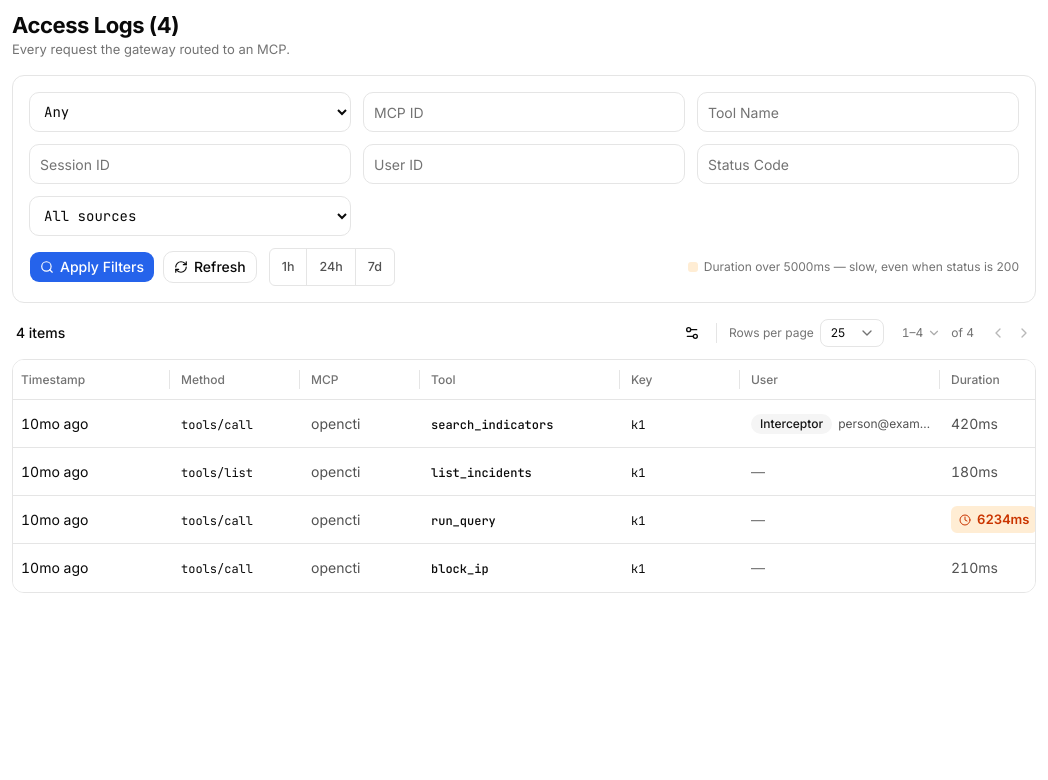
Test: AccessLogsPage › applying a filter commits it to the URL and refetches
The width and height of the screenshot is (1048, 780).
Expected: the heading "Access Logs (4)" is shown, [12,12,179,38]
Select "tools/call" in the dropdown named "Method" at [190, 112], box [29,92,351,132]
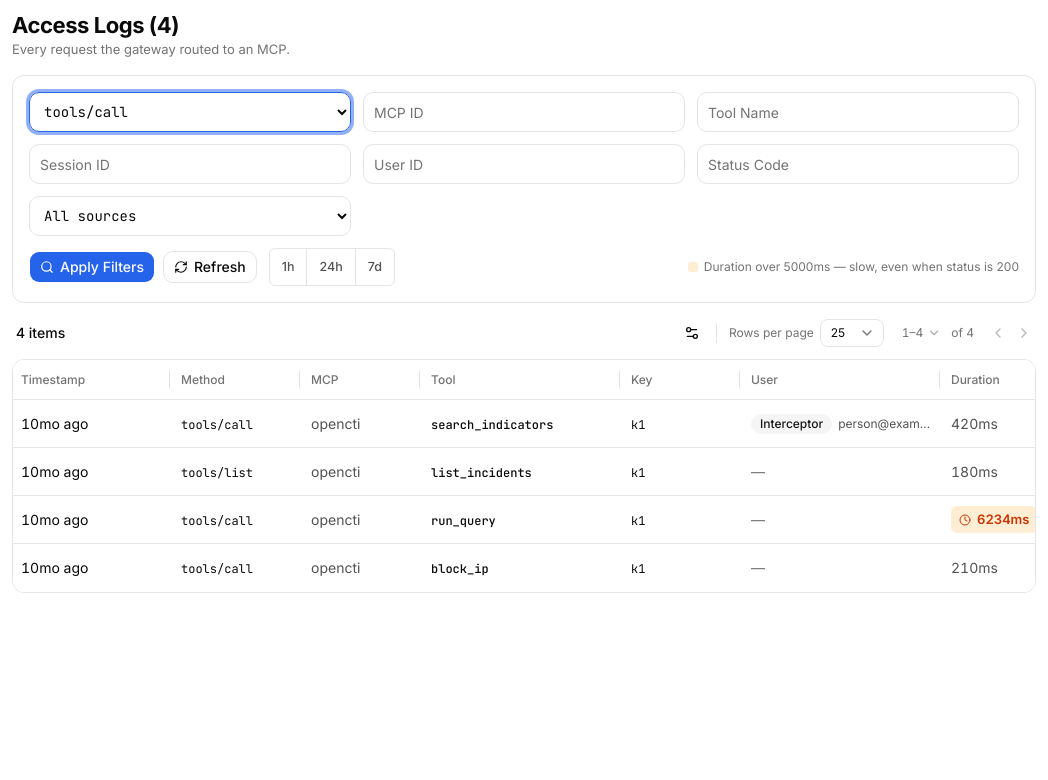
Click the button "Apply Filters" at [92, 267], box [29,251,155,283]
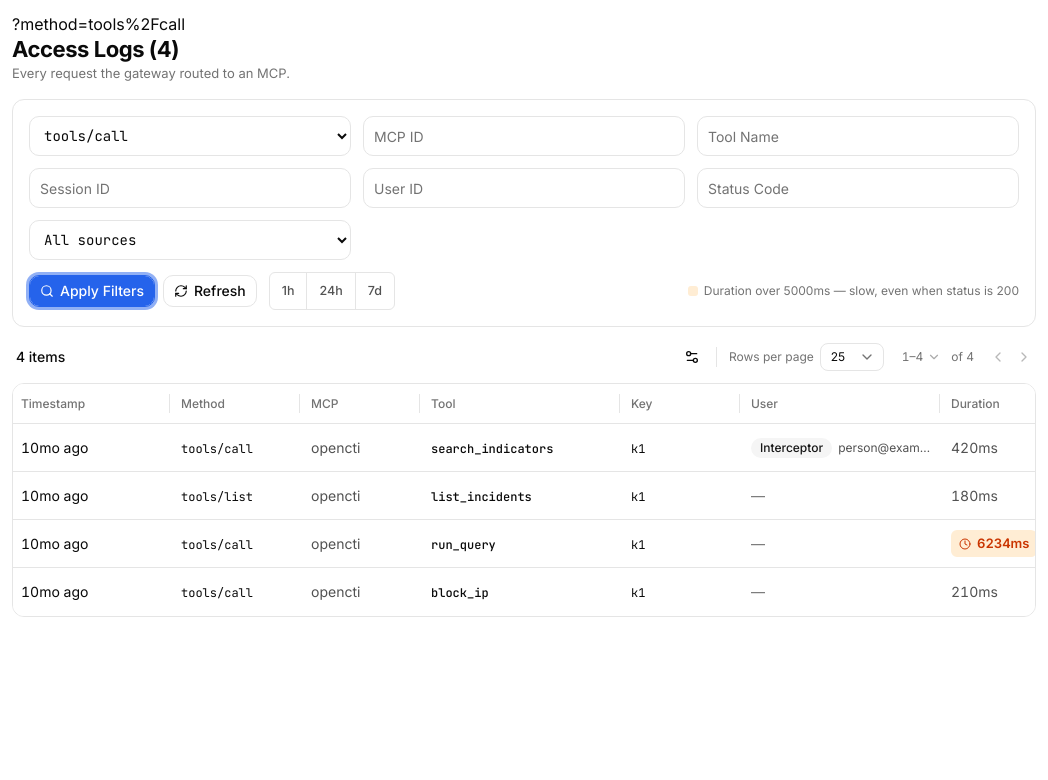
Expected: the text with test id "location-search" shows "method=tools%2Fcall", [12,14,185,34]
